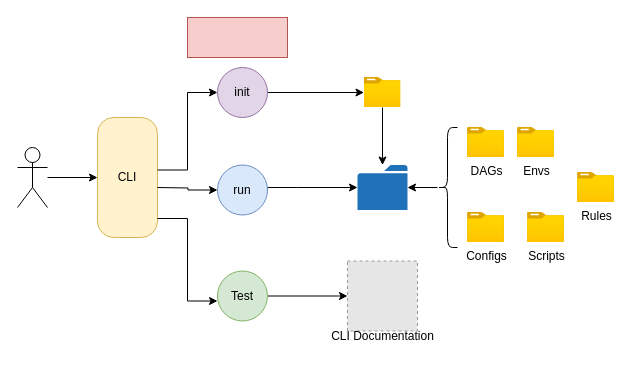
The diagram is 632 pixels wide and 368 high, and some of its shapes have lost their labels. Grey dashed boxes stand in for pictures. Each missing label, with the centre of its shape:
data: (x=382, y=92)
Modes: (x=237, y=37)
User: (x=32, y=177)
workflows: (x=382, y=187)
